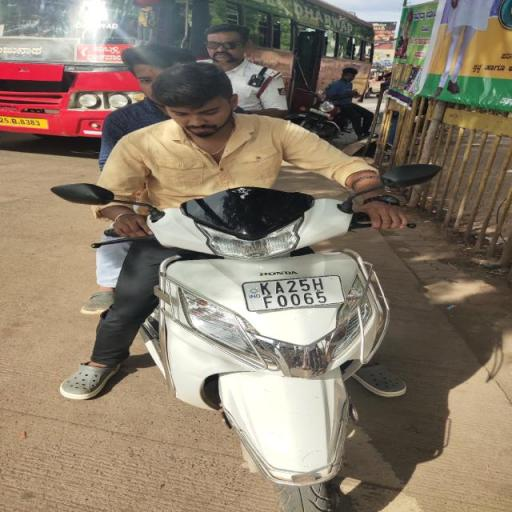bike: (48, 38, 426, 512)
numberplate: (238, 272, 345, 312)
withouthelmet: (157, 64, 230, 134), (124, 49, 191, 90)
